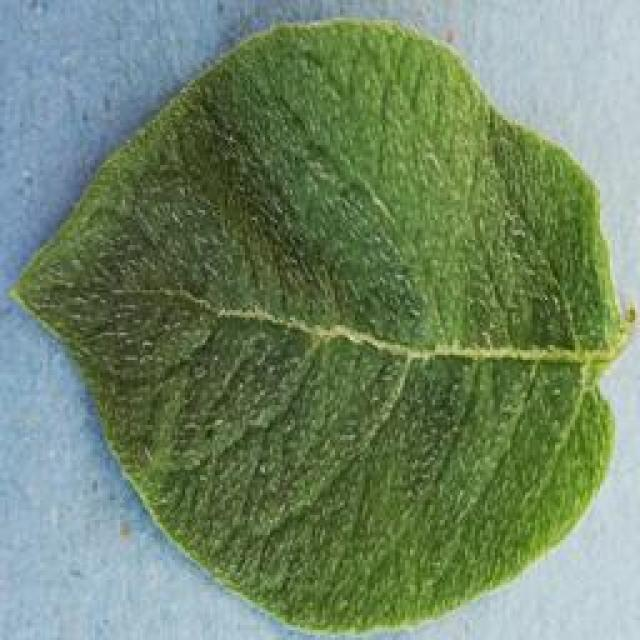Potato_Healthy: (8, 17, 622, 632)
